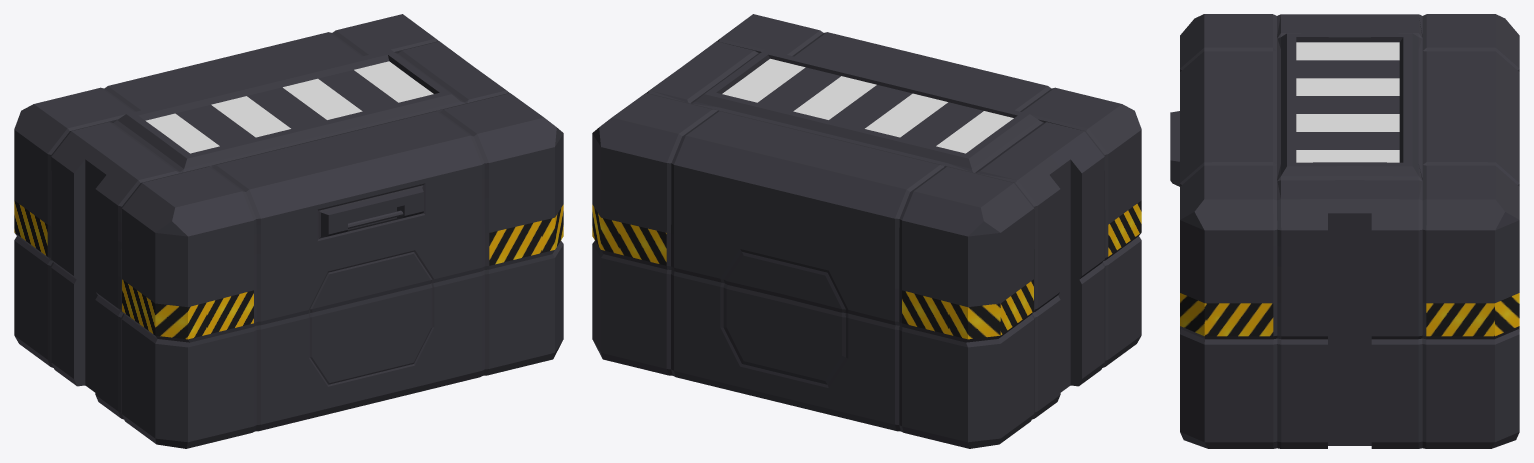
File: crate.fbx
3 renders of one model, left to right at view 1: azimuth 30°, elevation 25°; view 2: azimuth 150°, elevation 25°; view 3: azimuth 270°, elevation 25°, orthographic. The views are drawn at different scales.
Parts seen in each view (by area): view 1: Cube, Cube.003; view 2: Cube, Cube.003; view 3: Cube, Cube.003.
Part boxes in pixels (x1=…): Cube: x1=14, y1=14, x2=563, y2=448; Cube.003: x1=145, y1=61, x2=433, y2=153; Cube: x1=592, y1=14, x2=1141, y2=448; Cube.003: x1=722, y1=58, x2=1013, y2=153; Cube: x1=1170, y1=14, x2=1519, y2=448; Cube.003: x1=1296, y1=42, x2=1399, y2=162.
Bounding box in the file's own units: 200 × 113 × 144.
